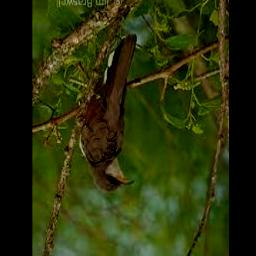Cuckoo: (78, 35, 138, 192)
